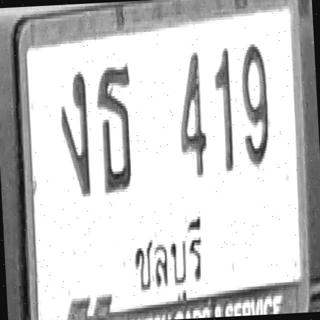A07: (58, 69, 92, 198)
A24: (94, 61, 136, 193)
N01: (212, 44, 235, 172)
N04: (176, 50, 208, 178)
N09: (239, 41, 271, 167)
P13: (127, 212, 207, 300)
